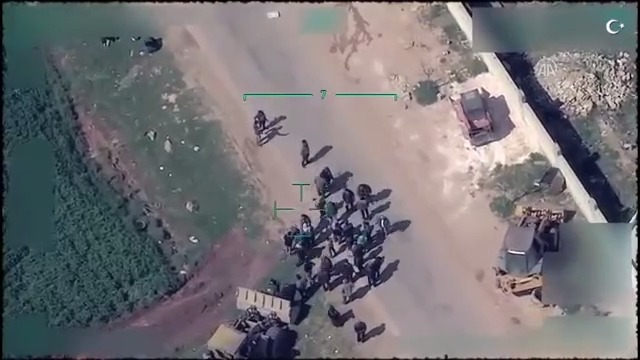arac: (449, 84, 498, 150)
insan: (376, 213, 397, 240), (297, 139, 315, 170), (325, 305, 346, 328), (342, 184, 357, 212), (353, 316, 367, 343), (302, 255, 315, 283), (253, 119, 265, 146), (324, 235, 336, 256)
